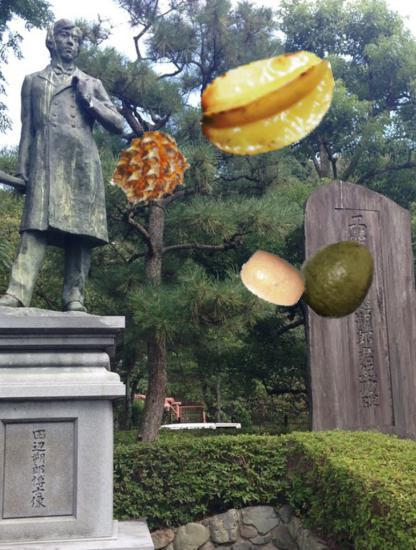Carambula: (198, 35, 338, 175)
Guava: (297, 235, 382, 320)
Kumquats: (240, 246, 307, 313)
Pineapple: (111, 130, 191, 210)
